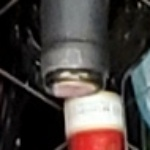bottle: (25, 47, 124, 114)
